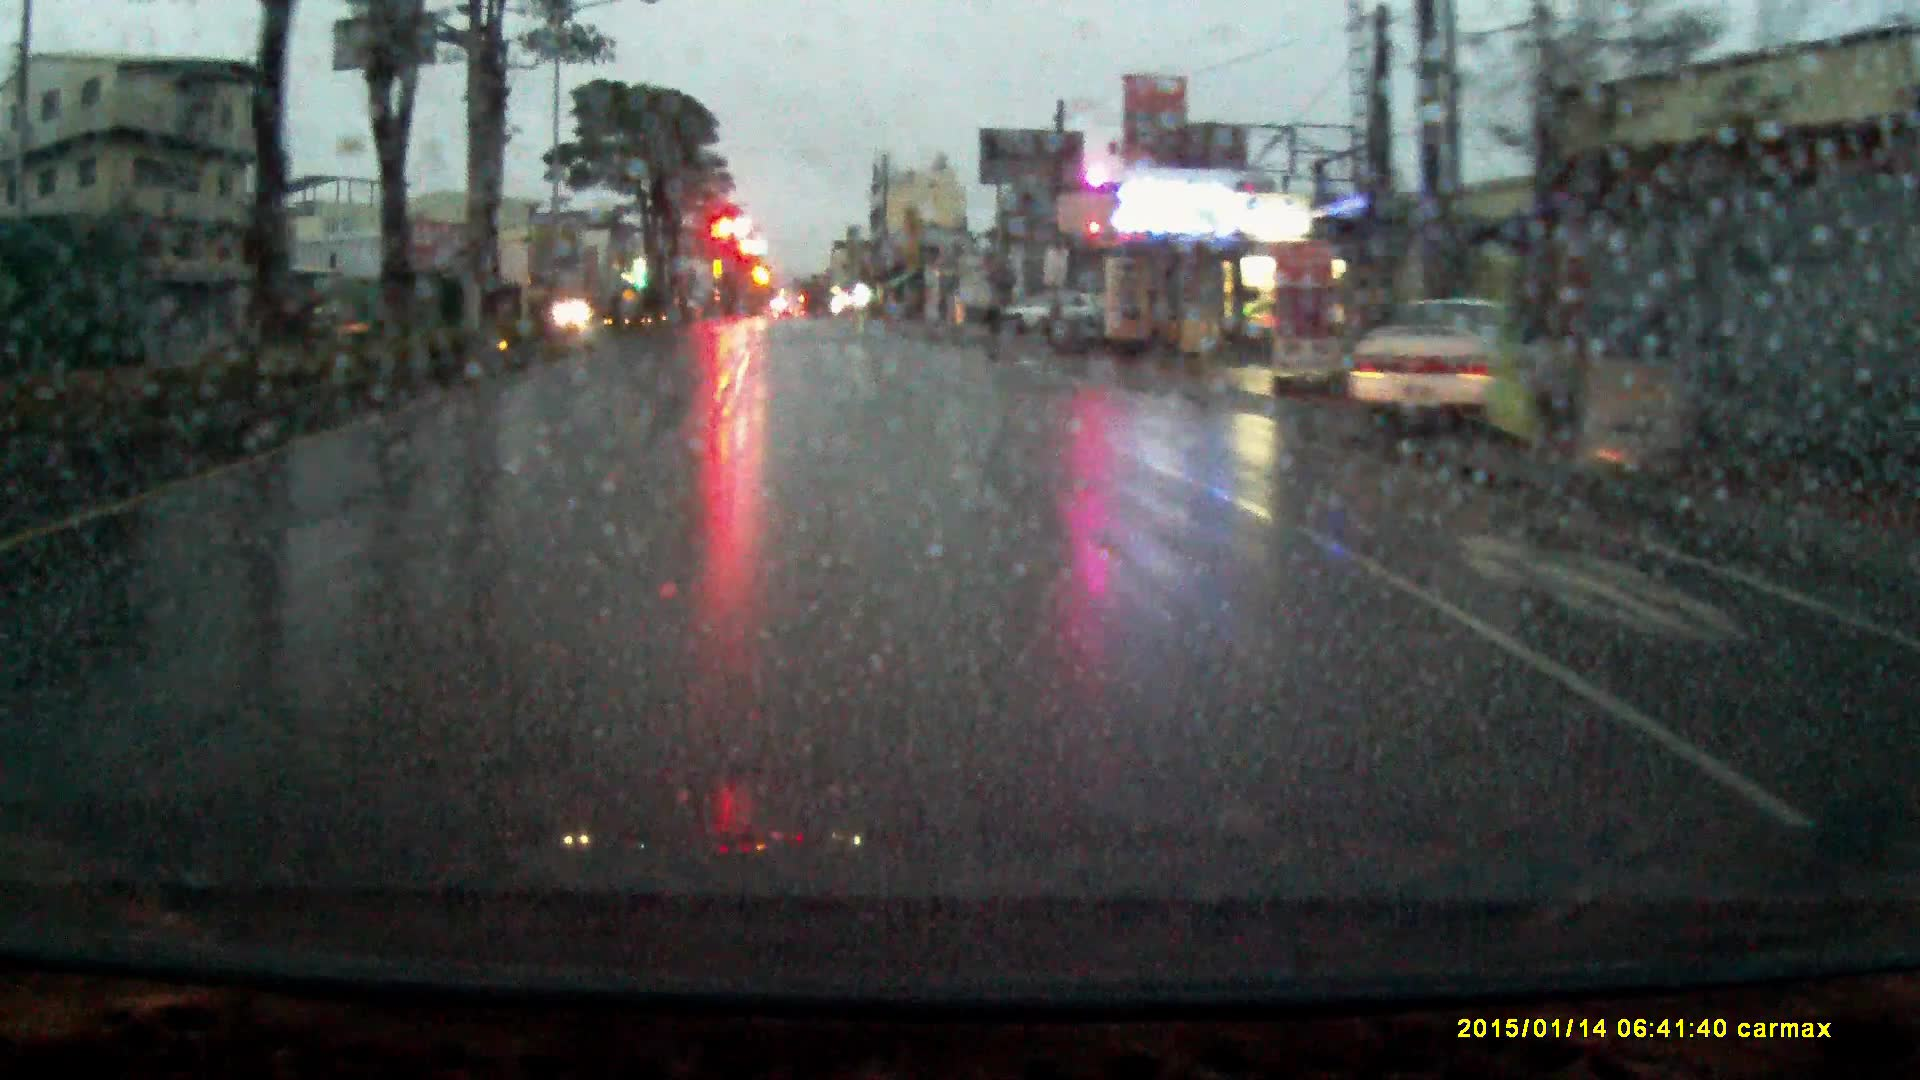vehicle: (1344, 287, 1572, 431), (1001, 289, 1095, 334), (555, 295, 601, 328)
